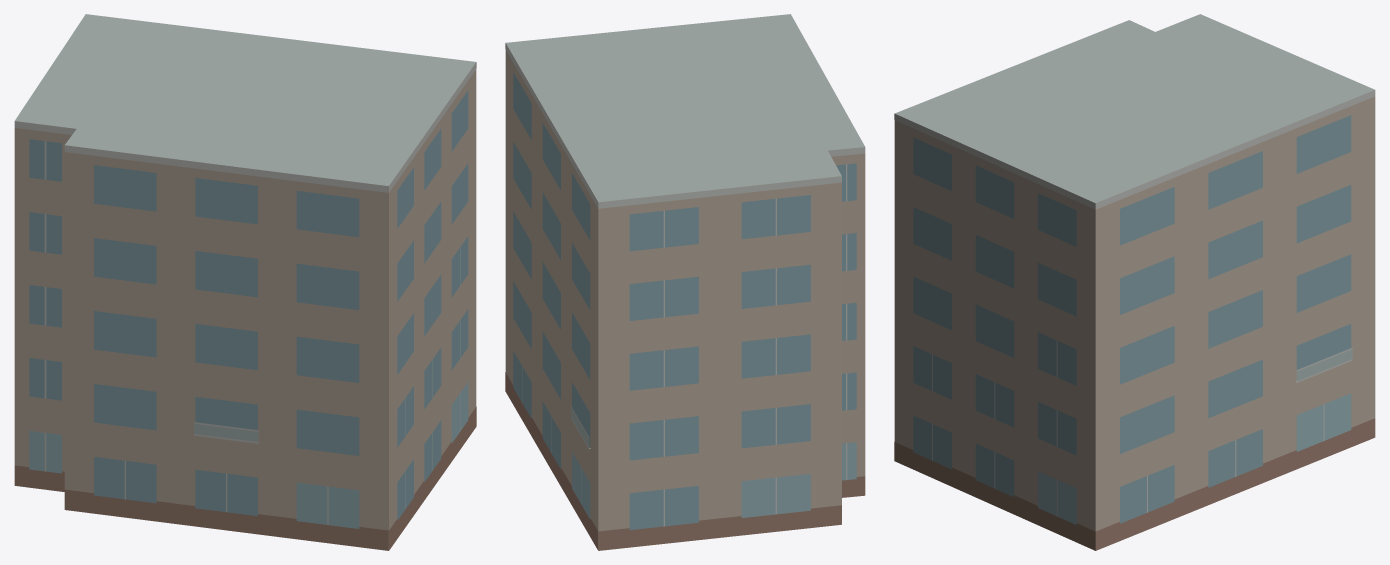
The model's file is survey-upis-32891638.glb.
3 renders of one model, left to right at view 1: azimuth 30°, elevation 25°; view 2: azimuth 150°, elevation 25°; view 3: azimuth 270°, elevation 25°, orthographic. The views are drawn at different scales.
Parts seen in each view (by area): view 1: survey-upis-32891638.tmp; view 2: survey-upis-32891638.tmp; view 3: survey-upis-32891638.tmp.
Part boxes in pixels (x1=…): survey-upis-32891638.tmp: x1=14, y1=14, x2=476, y2=550; survey-upis-32891638.tmp: x1=505, y1=14, x2=865, y2=550; survey-upis-32891638.tmp: x1=894, y1=14, x2=1375, y2=550.
Bounding box in the file's own units: 15.42 × 13.2 × 16.55.
